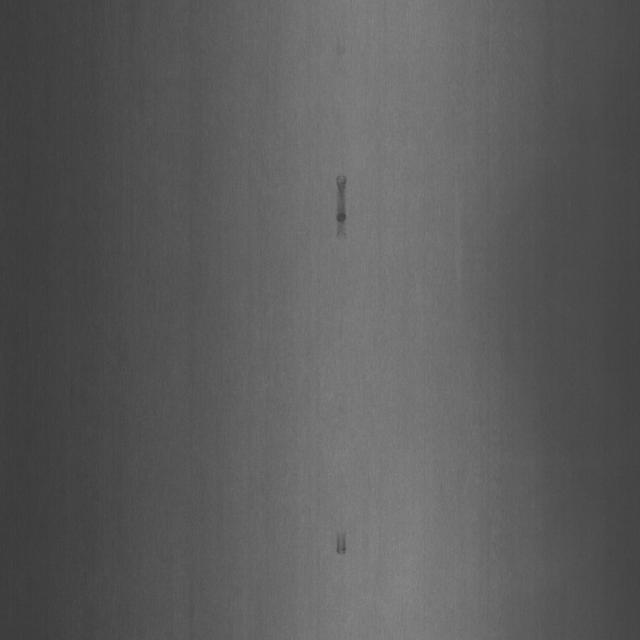welding_line: (331, 167, 359, 261), (326, 514, 351, 563)
